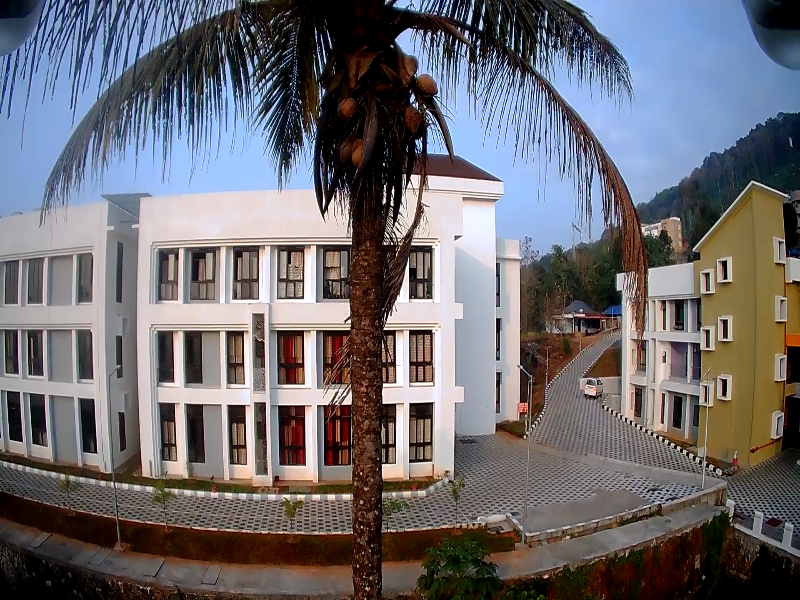coconut: (412, 72, 441, 107), (401, 107, 425, 140), (338, 96, 359, 121), (353, 140, 368, 172), (337, 142, 351, 161)
